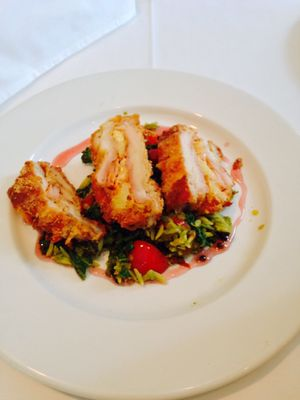curry: (0, 1, 300, 379)
